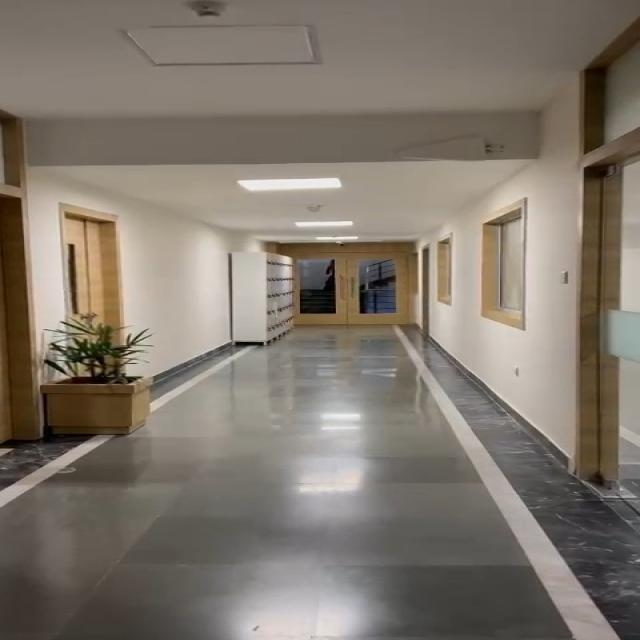door: (558, 38, 640, 478), (0, 110, 134, 330), (254, 224, 439, 333)
floor: (185, 350, 548, 640)
furniture: (54, 314, 144, 432)
